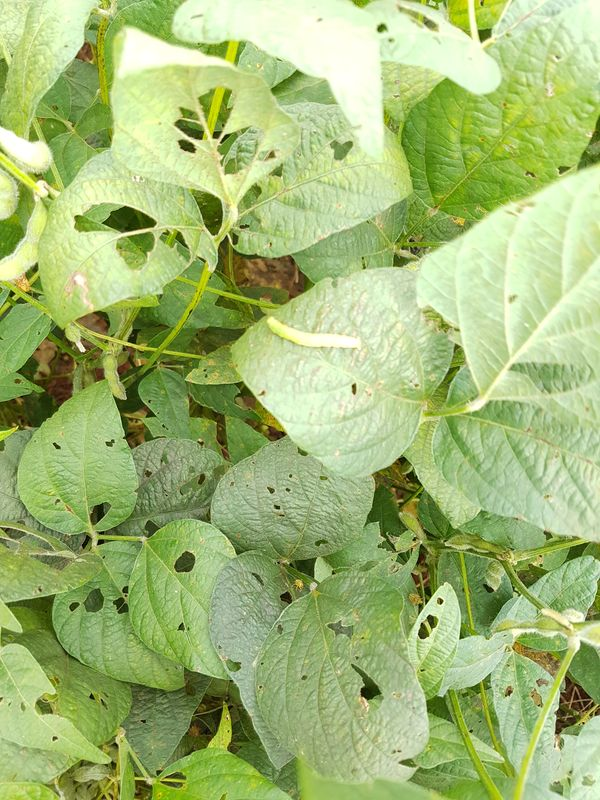Anticarsia_gemmatalis: (260, 311, 366, 363)
Euschistus_heros_adulto: (5, 270, 37, 298)
